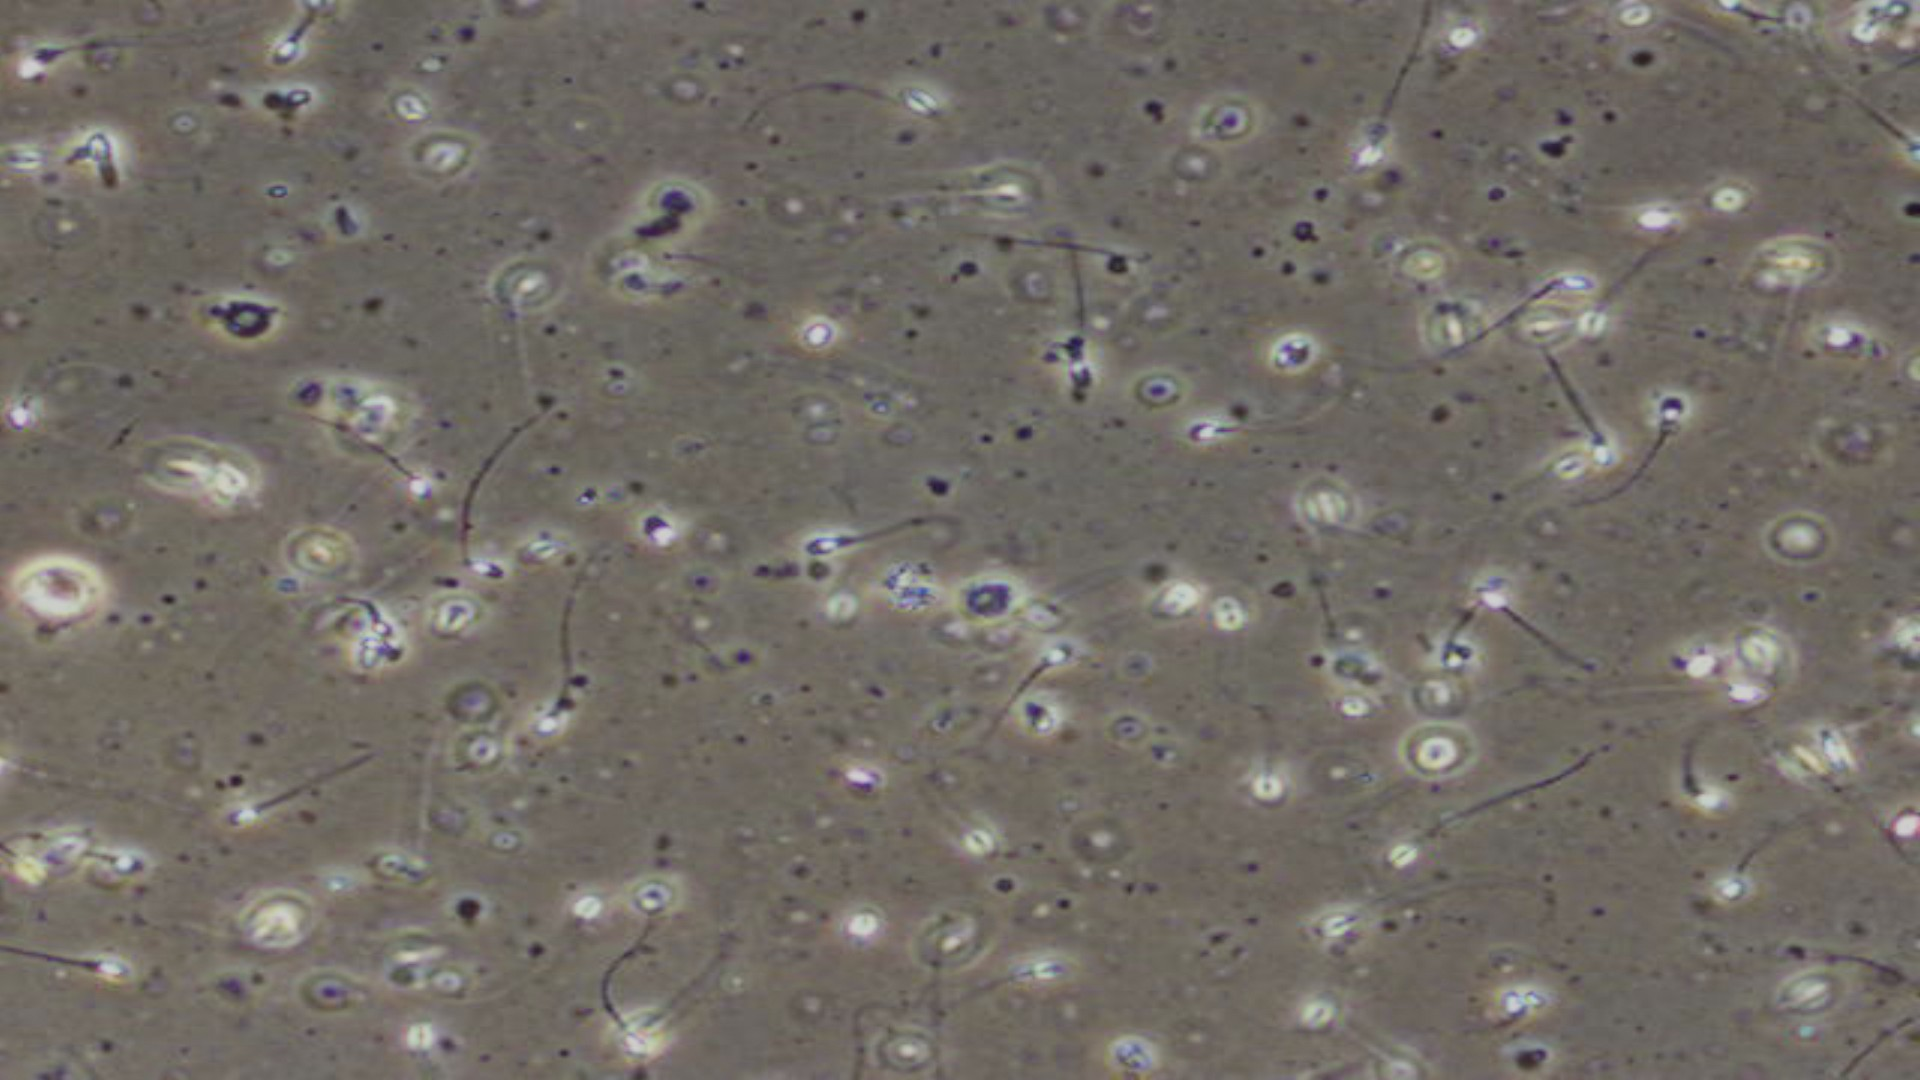sperm: (1474, 571, 1614, 692), (210, 760, 378, 841), (1346, 38, 1437, 185), (444, 450, 522, 603), (529, 620, 618, 749), (1627, 384, 1712, 495), (1486, 262, 1600, 342), (1, 926, 135, 993), (1540, 368, 1621, 477), (582, 935, 647, 1059), (1364, 807, 1478, 876), (1044, 287, 1106, 413), (1172, 400, 1311, 452), (349, 425, 429, 514), (785, 520, 913, 568), (15, 22, 129, 75), (240, 15, 339, 74), (864, 76, 953, 140), (997, 632, 1072, 704)
